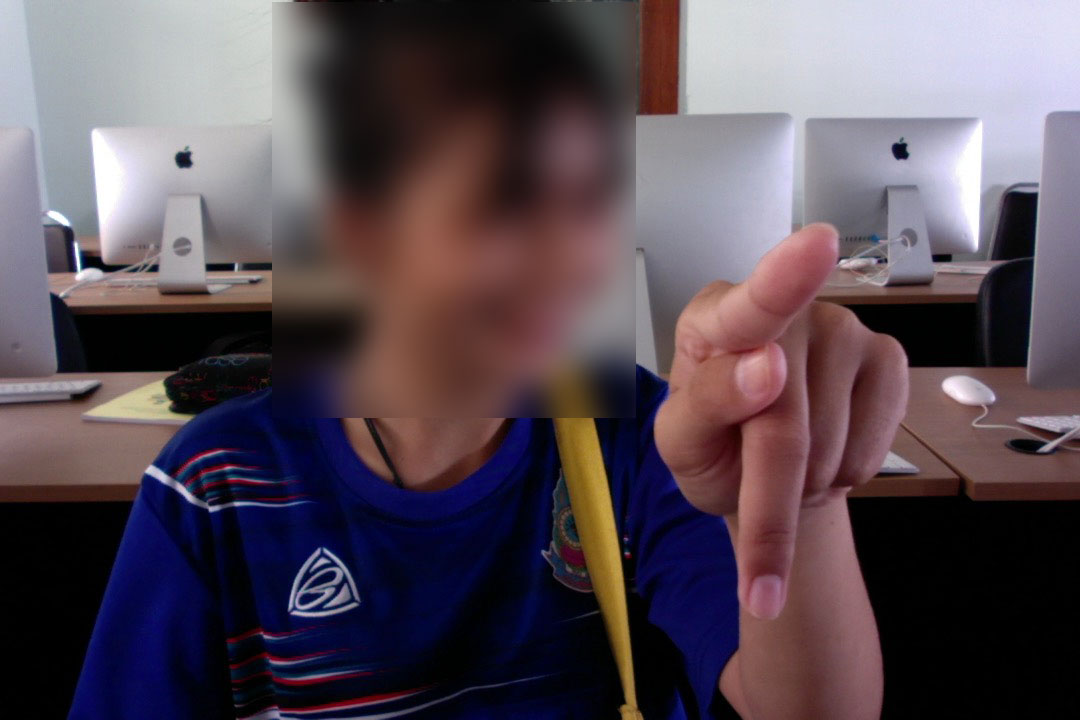por: (651, 201, 916, 630)
